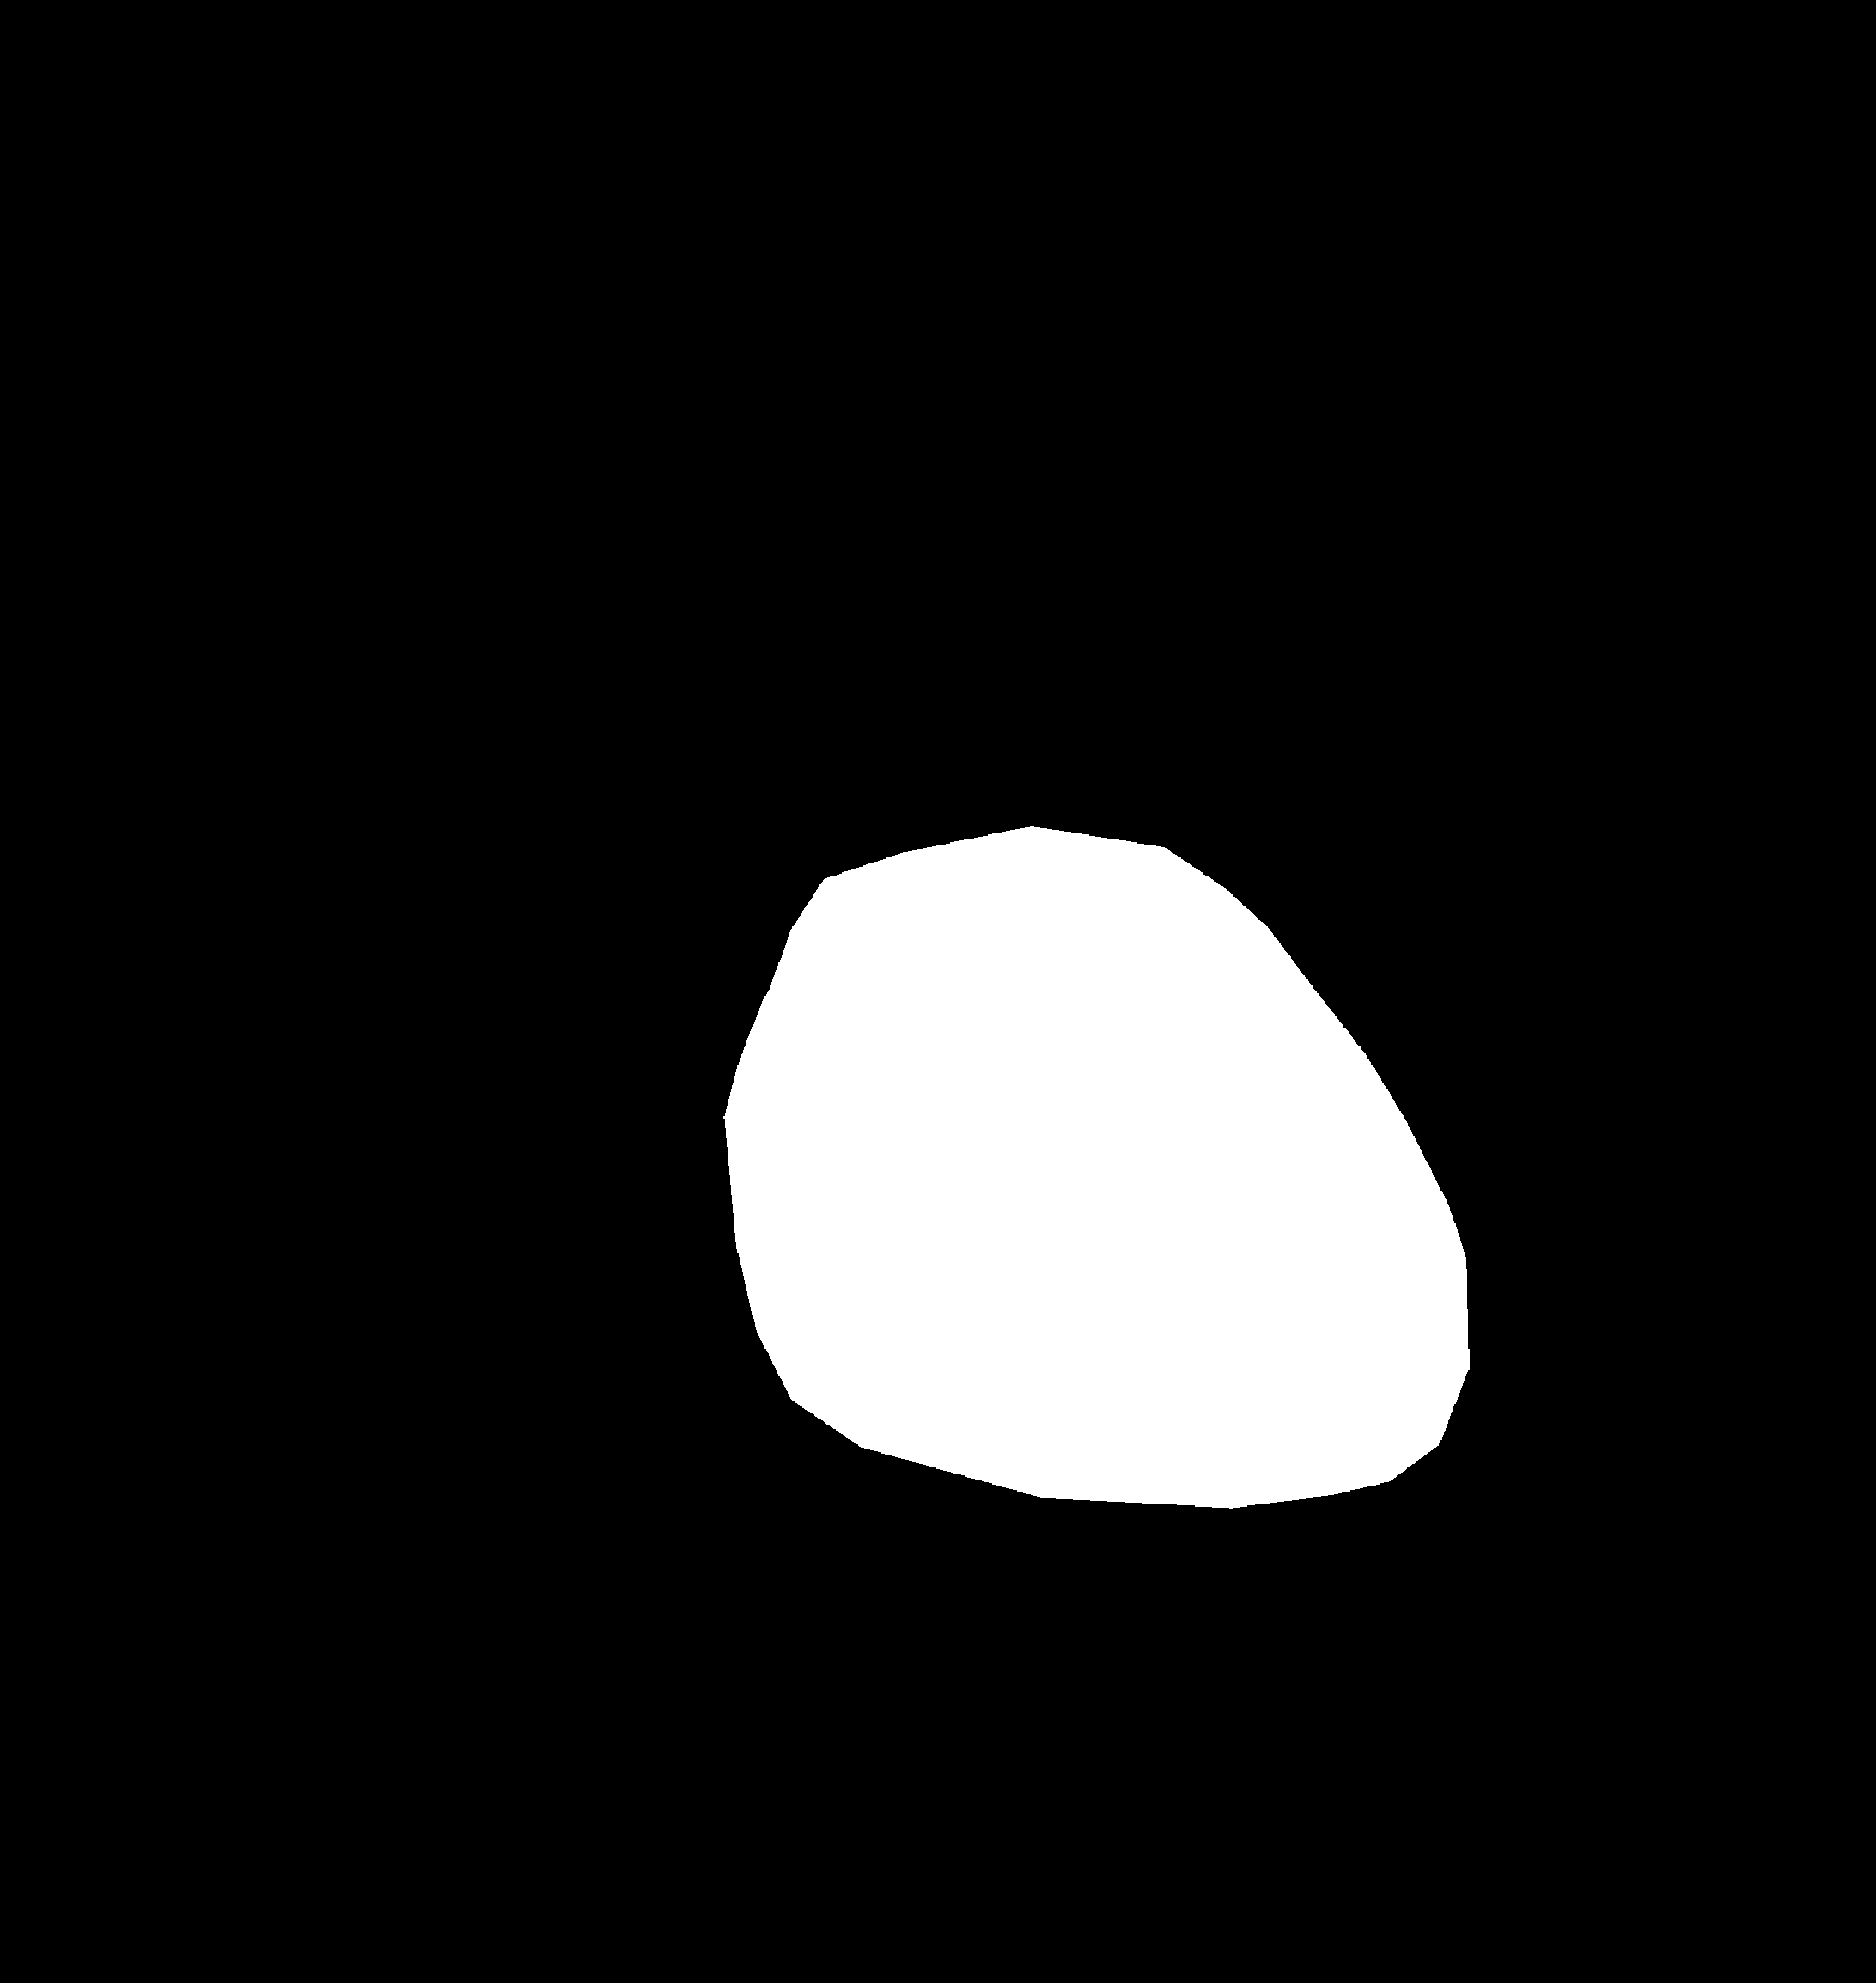heart: (728, 933, 1470, 1501)
left_lung: (189, 182, 837, 1650)
right_lung: (975, 201, 1696, 1627)
